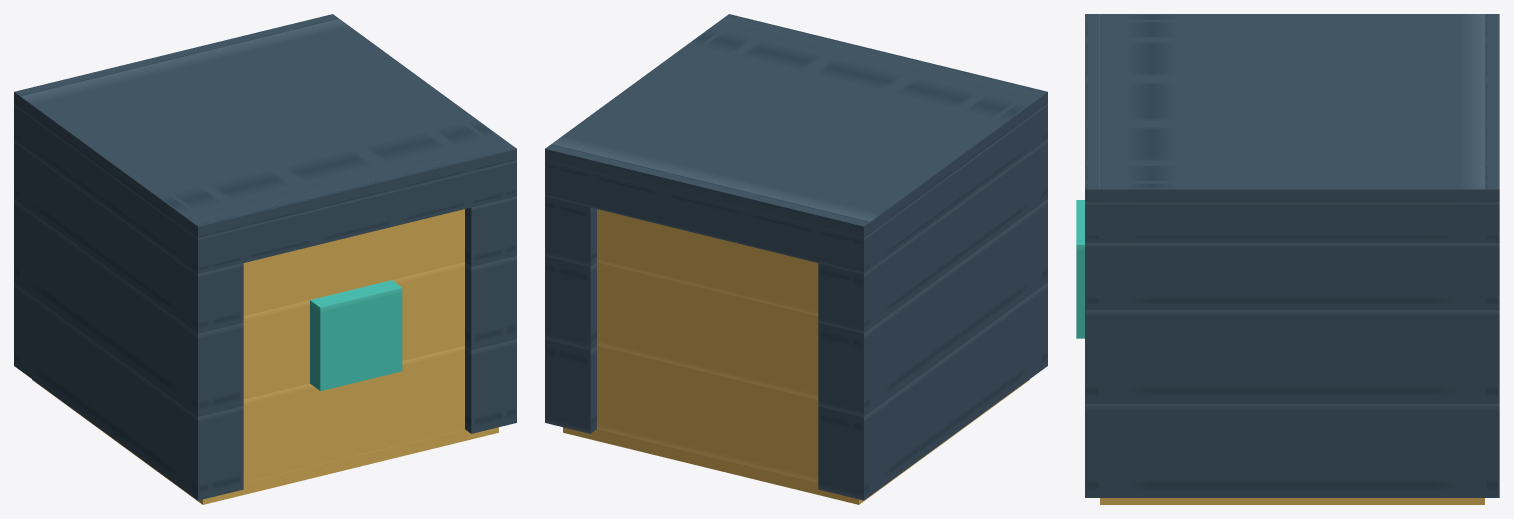
Rendered from sc_crate_loot.obj.
3 views of the same model, side by side, from view 1: azimuth 30°, elevation 25°; view 2: azimuth 150°, elevation 25°; view 3: azimuth 270°, elevation 25° (orthographic). The views are drawn at different scales.
Bounding box in the file's own units: 14 × 12 × 14.3.
1 material, 1 textured.
